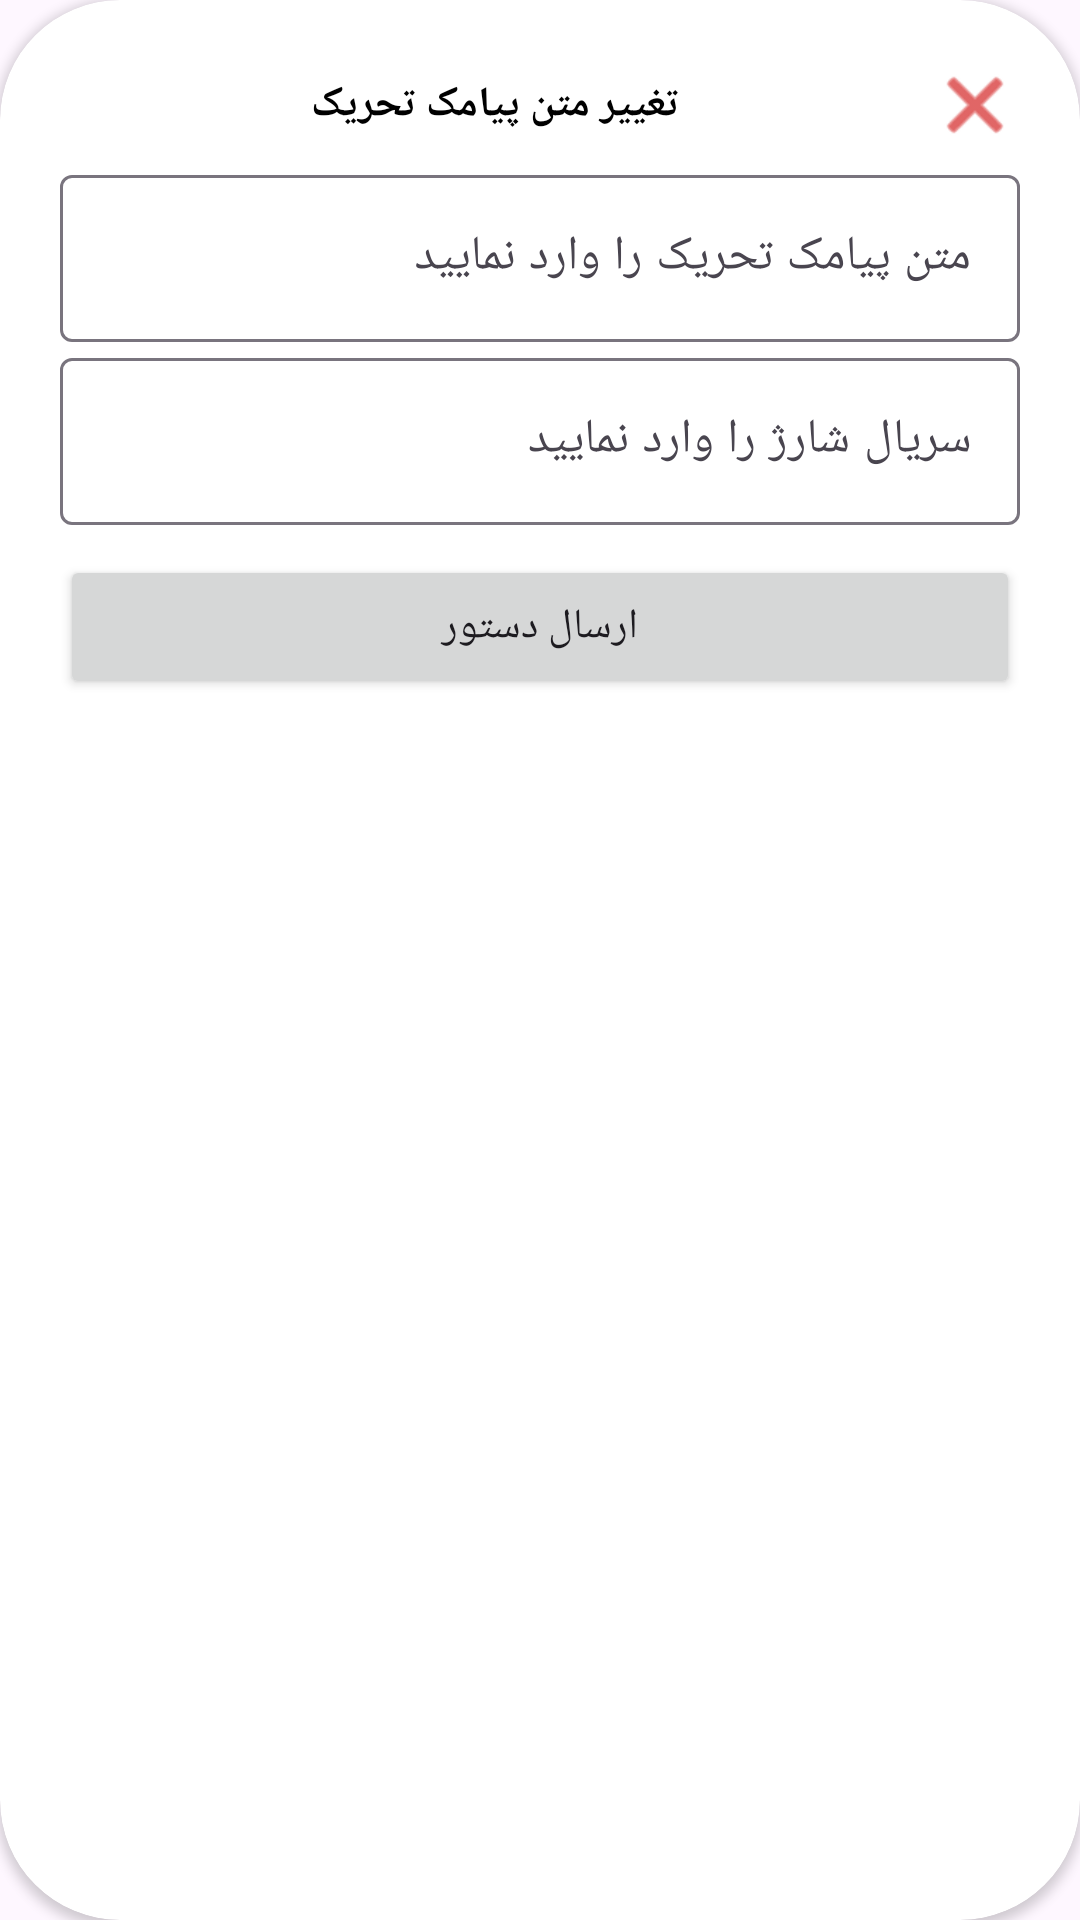

Icon bounding boxes for this 1080px×1920px phone screenshot, format (x1, y1, x2, y2):
close clear cancel: (947, 77, 1003, 133)
